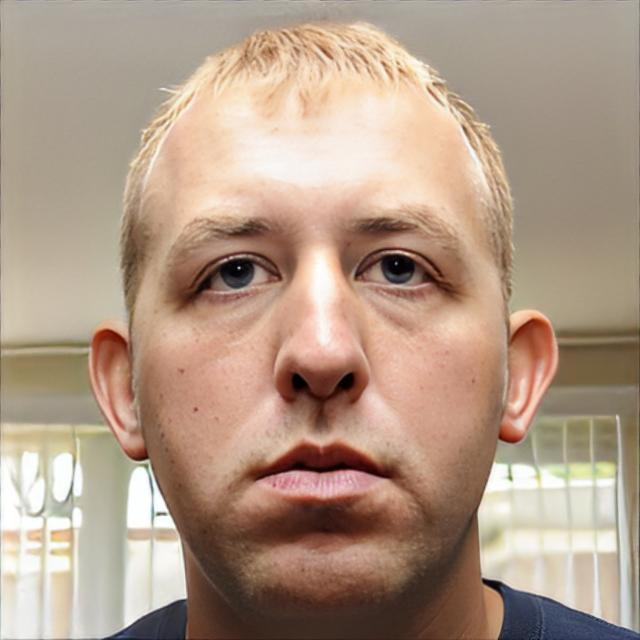anger: (130, 82, 509, 622)
